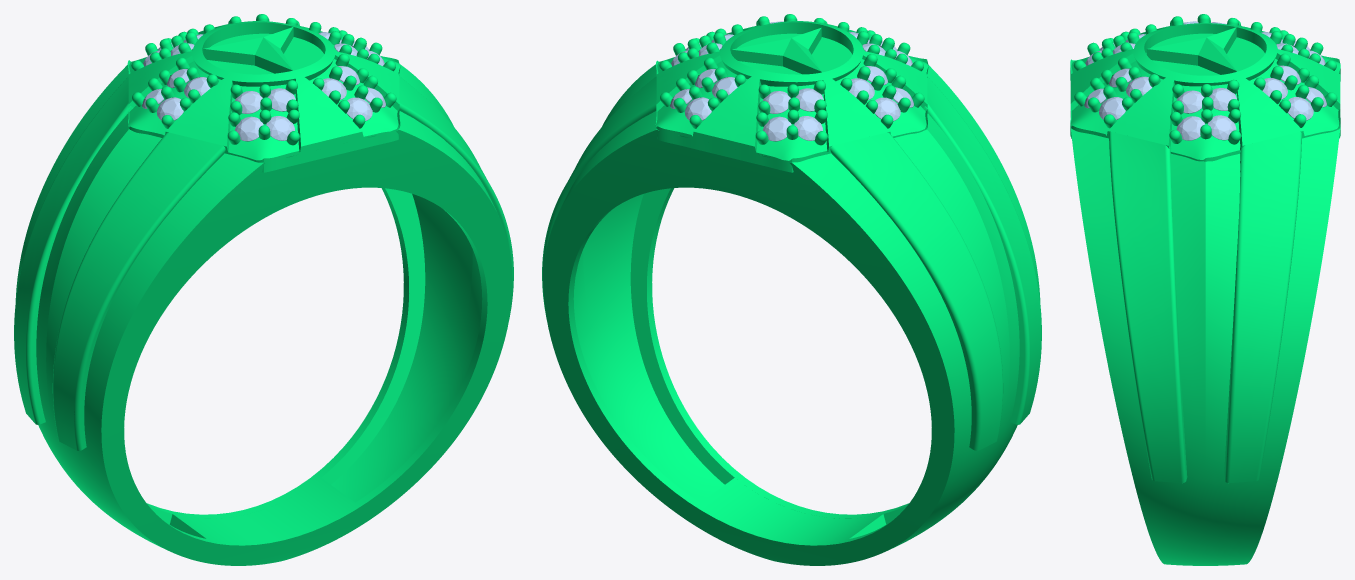
3 views of the same model, side by side, from view 1: azimuth 30°, elevation 25°; view 2: azimuth 150°, elevation 25°; view 3: azimuth 270°, elevation 25° (orthographic).
Visible parts, largest first — view 1: E 10.3dm; view 2: E 10.3dm; view 3: E 10.3dm, Diamond_Round (×6).
Part boxes in pixels (x1=…): E 10.3dm: x1=14, y1=21, x2=513, y2=565; E 10.3dm: x1=542, y1=21, x2=1041, y2=565; E 10.3dm: x1=1070, y1=23, x2=1340, y2=565; Diamond_Round (×6): x1=1099, y1=88, x2=1313, y2=140.
Bounding box in the file's own units: 2.55 × 2.77 × 1.34.
